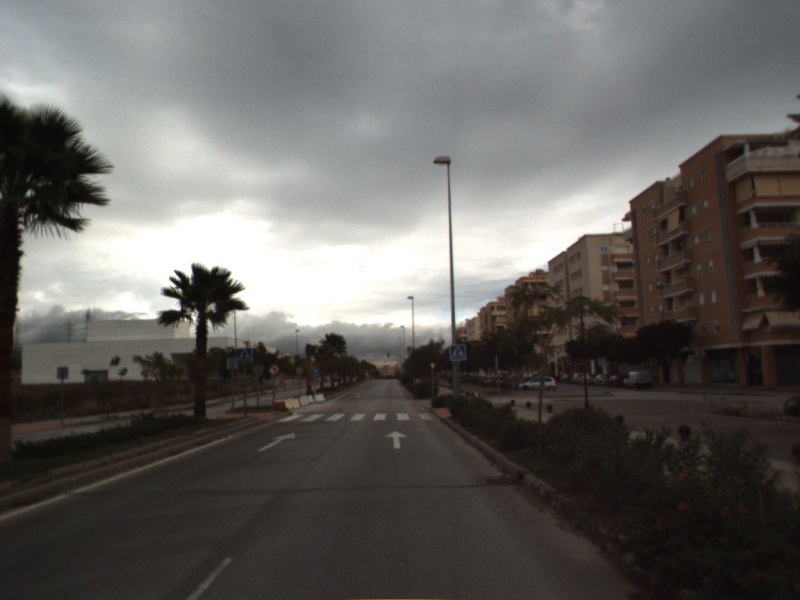STRAIGHT: (256, 430, 297, 453), (383, 428, 409, 450)
